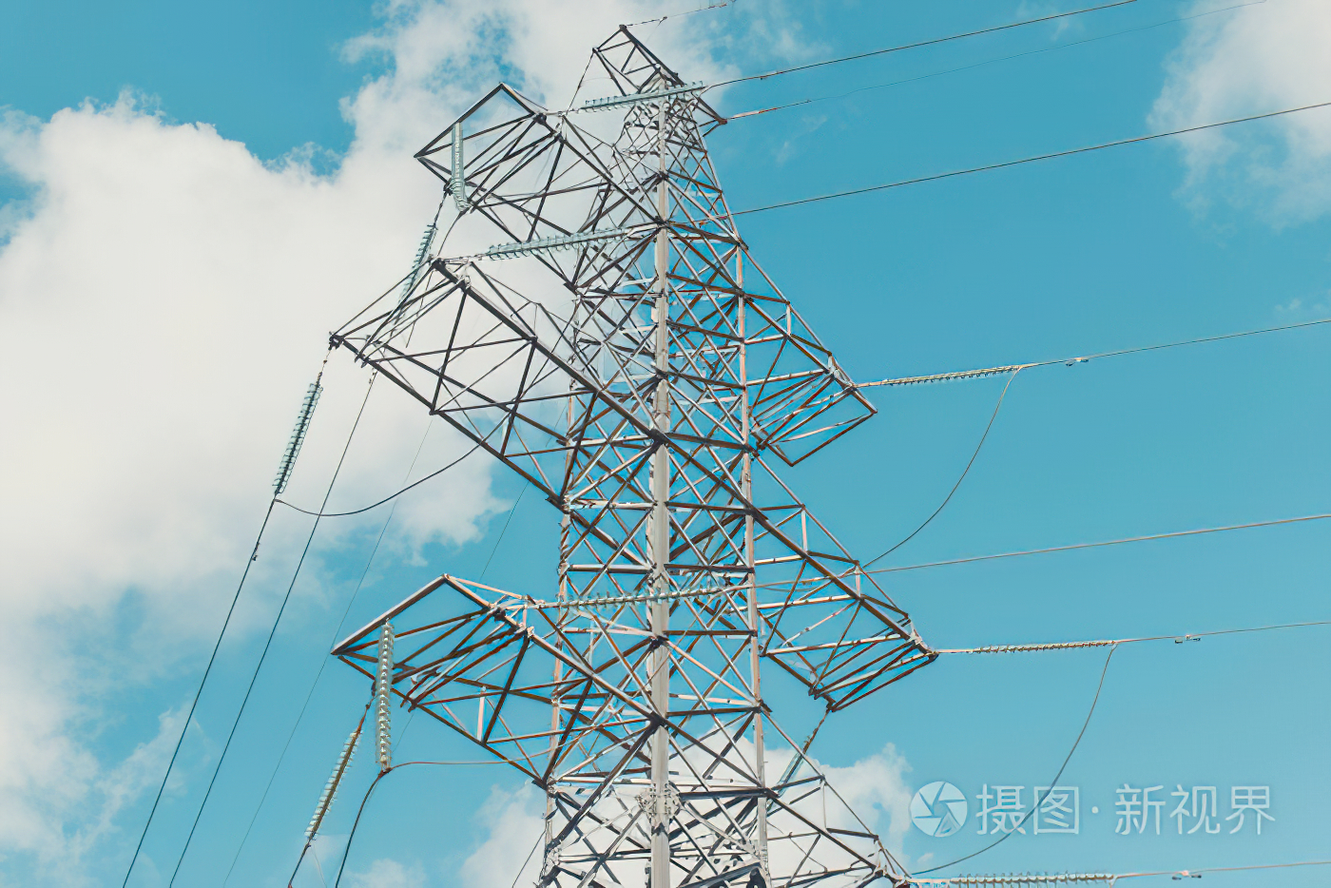insulator: (300, 727, 362, 848), (550, 582, 738, 618), (269, 379, 324, 499), (486, 221, 627, 261), (882, 361, 1026, 394), (579, 79, 706, 111), (394, 223, 439, 313), (374, 625, 397, 773), (973, 636, 1114, 659), (950, 869, 1114, 886), (445, 114, 468, 213)
